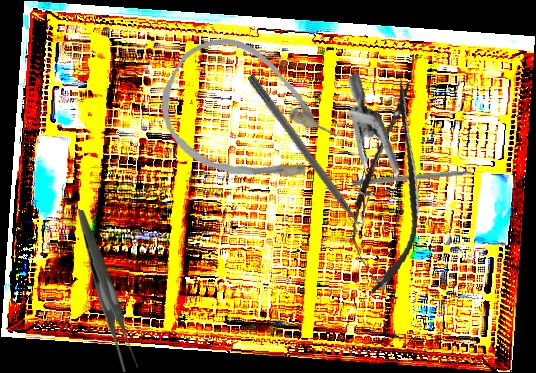Cannula: (140, 19, 355, 216)
Dressing Forceps: (75, 209, 141, 373)
Micro Scissor: (342, 74, 438, 298)
Pusher: (244, 73, 375, 246), (351, 167, 495, 188)
Speculum: (279, 71, 450, 247)
